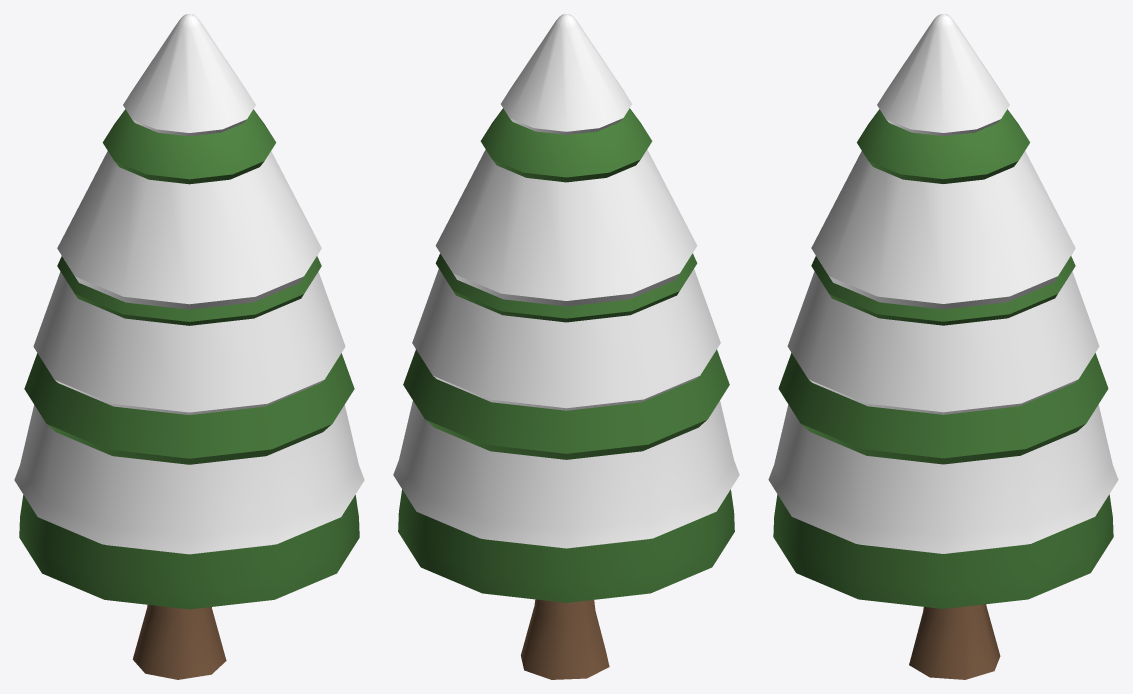
File: SM_tree_snow_03.fbx
3 views of the same model, side by side, from view 1: azimuth 30°, elevation 25°; view 2: azimuth 150°, elevation 25°; view 3: azimuth 270°, elevation 25° (orthographic).
Visible parts, largest first — view 1: Cylinder51273; view 2: Cylinder51273; view 3: Cylinder51273.
Part boxes in pixels (<box>): Cylinder51273: <box>14,14,364,679</box>; Cylinder51273: <box>393,14,739,679</box>; Cylinder51273: <box>768,14,1118,679</box>.
Size of the model in its own units: 87.03 by 178 by 87.03.
